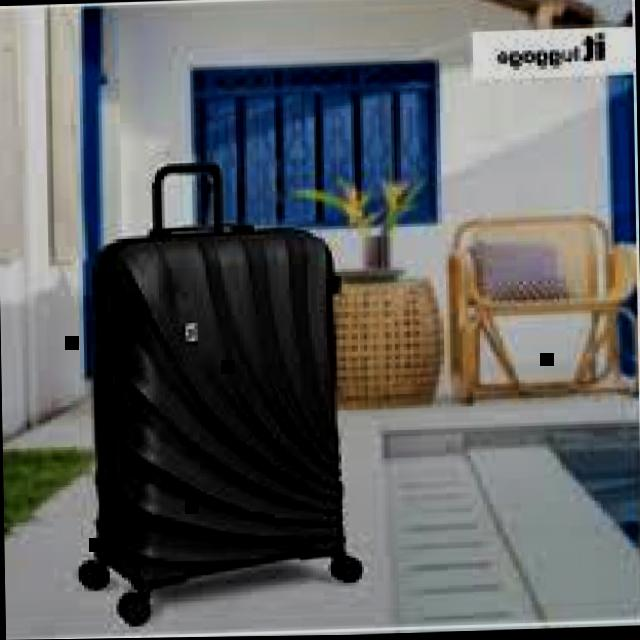luggage: (83, 220, 349, 594)
